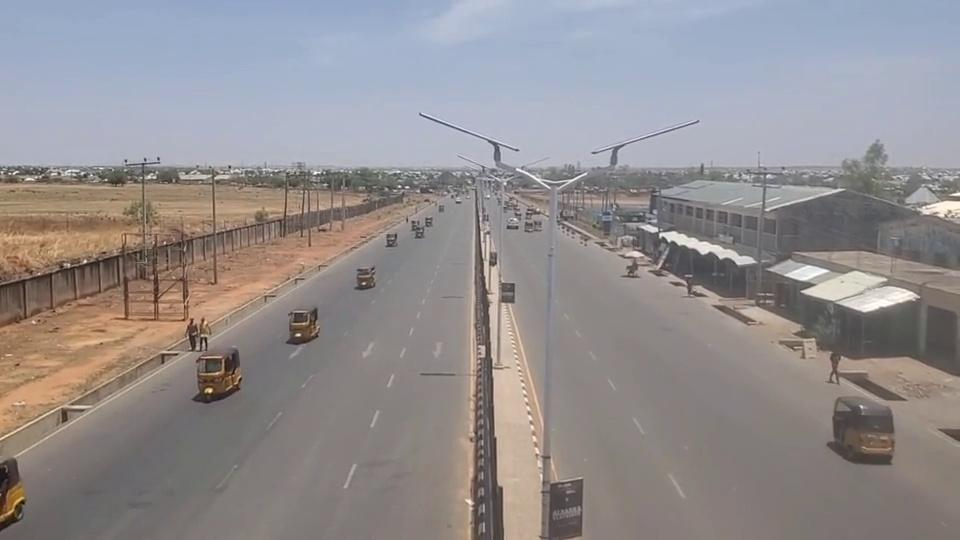keke: (831, 395, 895, 462), (195, 345, 242, 400), (0, 452, 26, 530), (287, 306, 319, 341), (357, 266, 376, 290)
